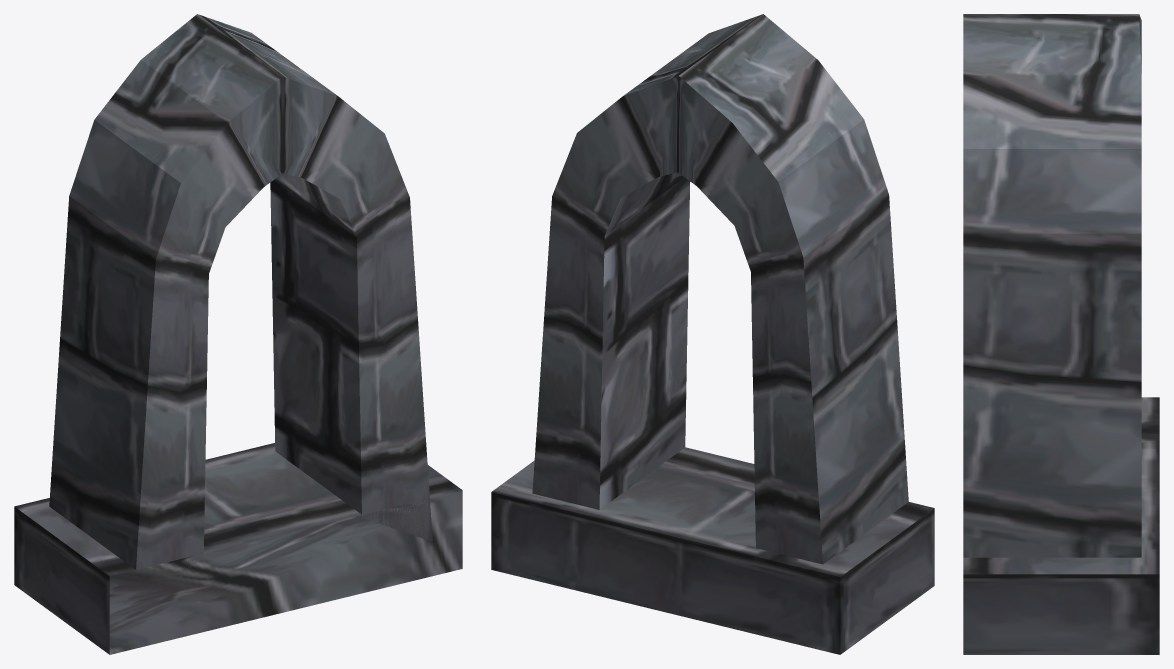
Rendered from e_throne_wall_outer_frame.fbx.
3 views of the same model, side by side, from view 1: azimuth 30°, elevation 25°; view 2: azimuth 150°, elevation 25°; view 3: azimuth 270°, elevation 25° (orthographic). The views are drawn at different scales.
Parts seen in each view (by area): view 1: polySurface2780; view 2: polySurface2780; view 3: polySurface2780.
Boxes of the visible parts, box(x1,y1,x2,y2) form: polySurface2780: box(14, 14, 462, 654); polySurface2780: box(491, 14, 934, 654); polySurface2780: box(963, 14, 1159, 654).
Size of the model in its own units: 1.39 by 2.02 by 0.651.
